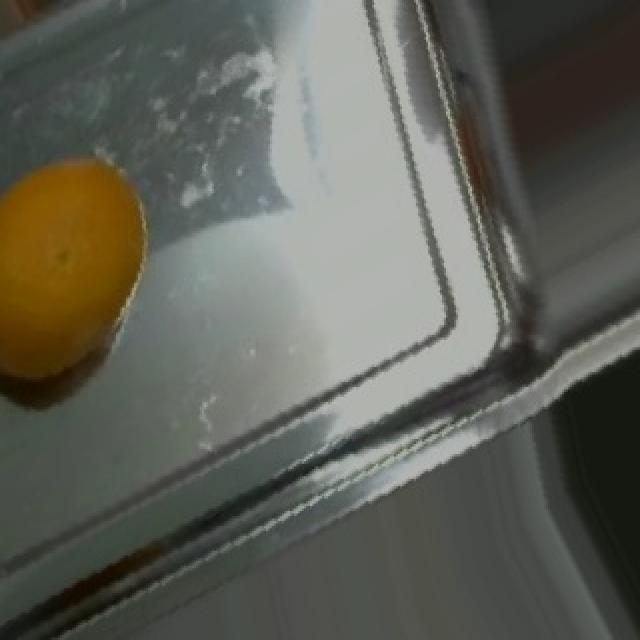Fruit: (0, 129, 172, 414)
